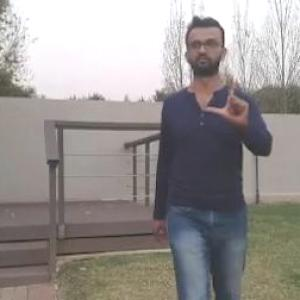land_hand: (204, 66, 254, 126)
